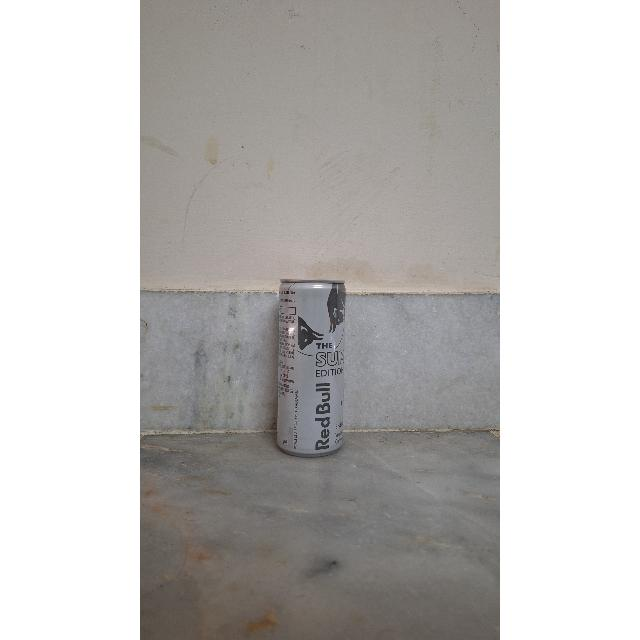Redbull Summer Edition: (268, 272, 348, 458)
